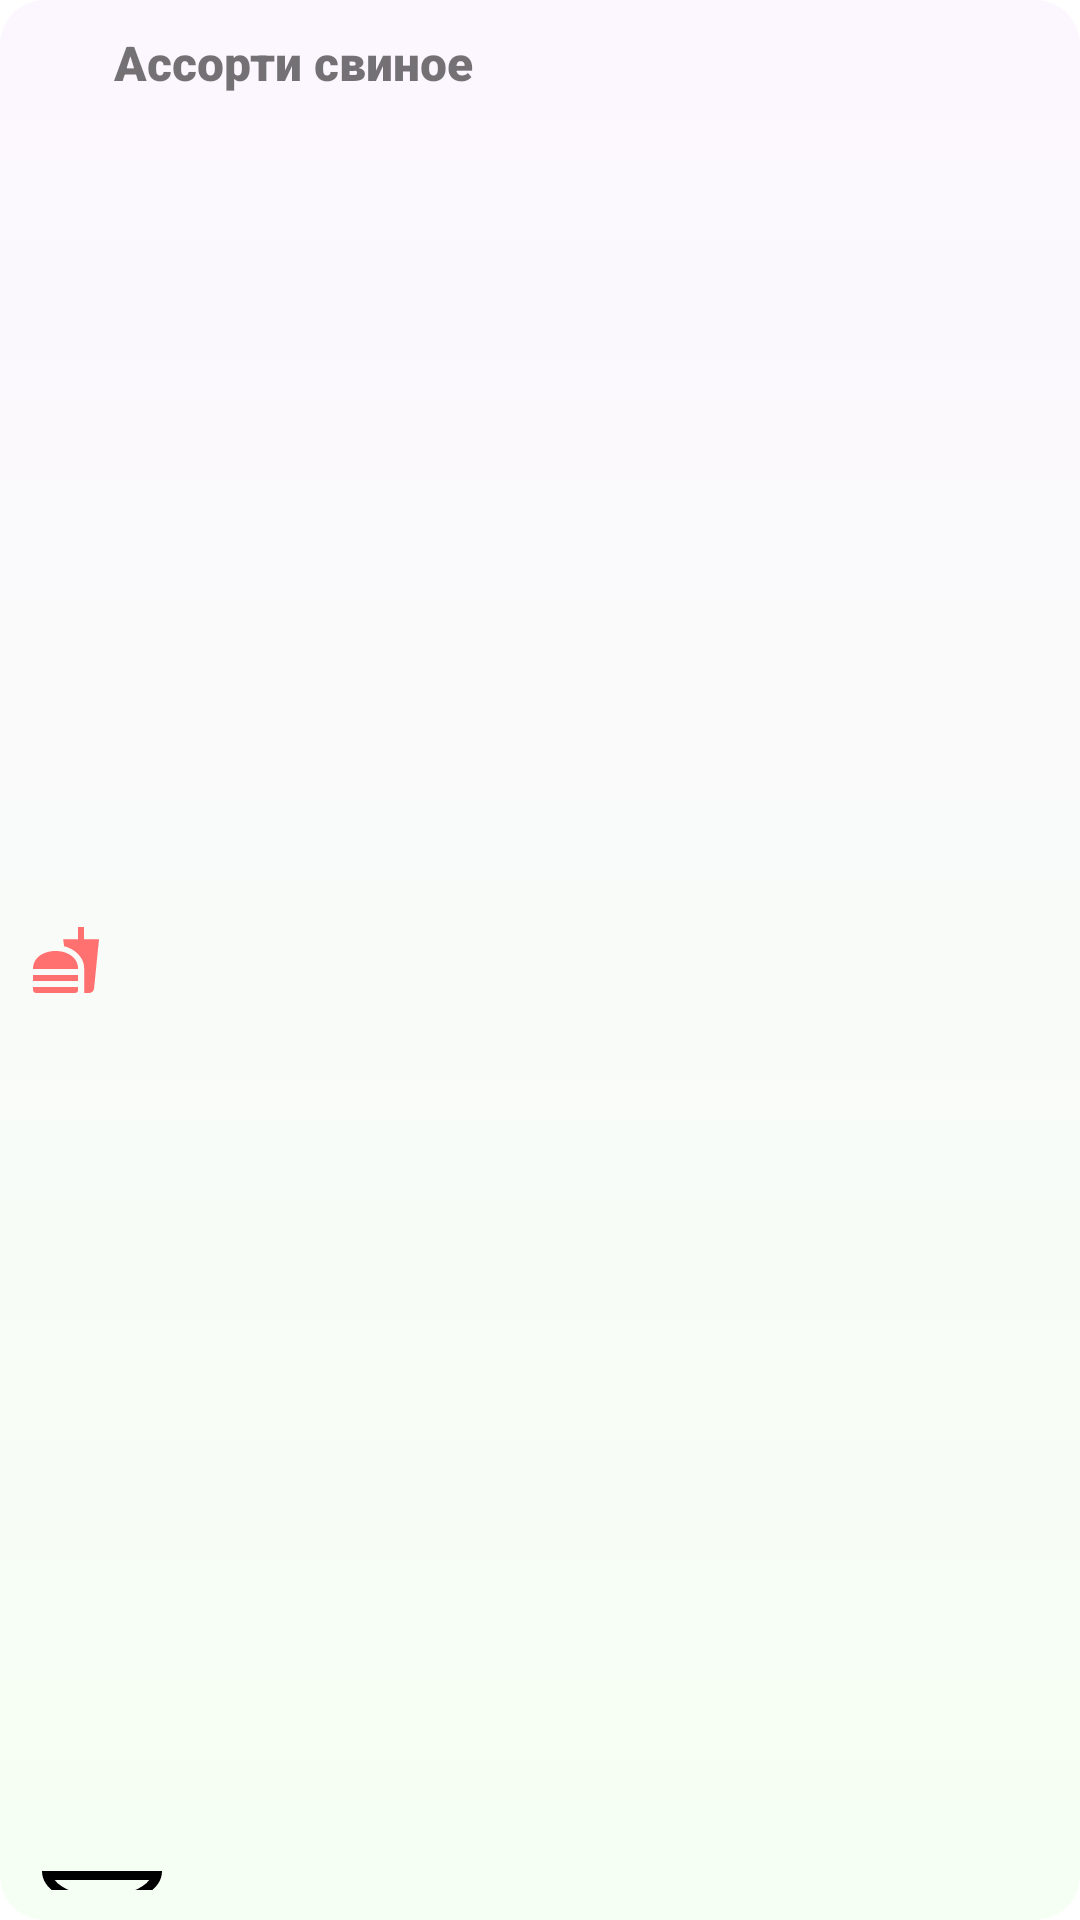

Screen size 1080*1920. Icon name, then its center in pixels as [x,y]:
fastfood: [66,960]
